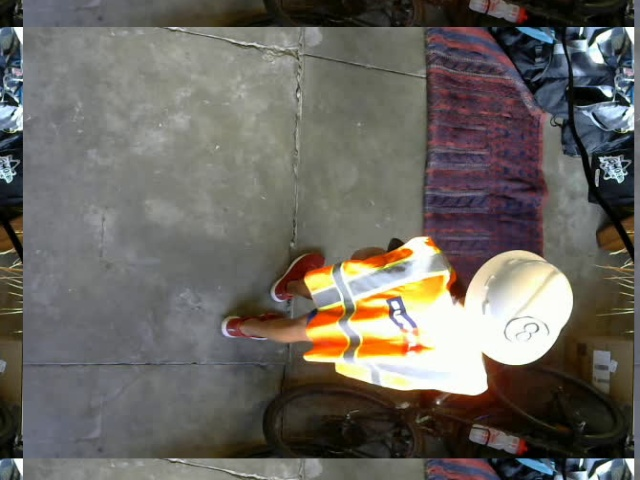eight: (502, 315, 550, 346)
